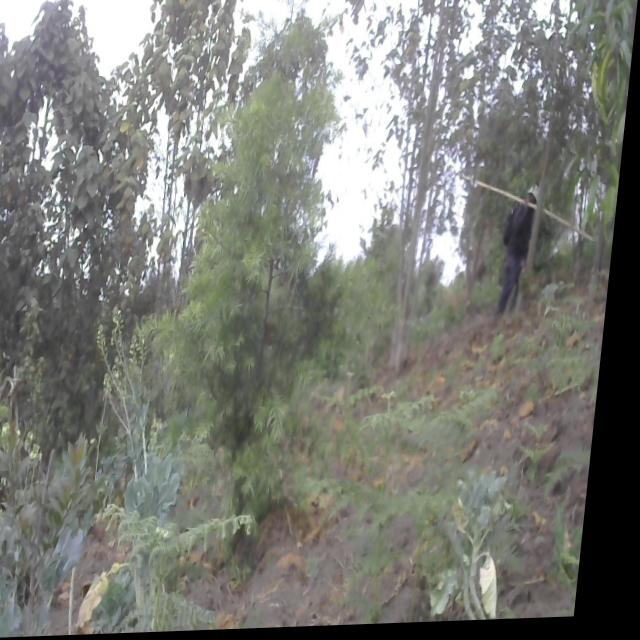Podocarpus falcatus: (180, 26, 360, 507)
other: (0, 6, 133, 447), (335, 0, 475, 361), (111, 0, 252, 285), (501, 0, 601, 315)
